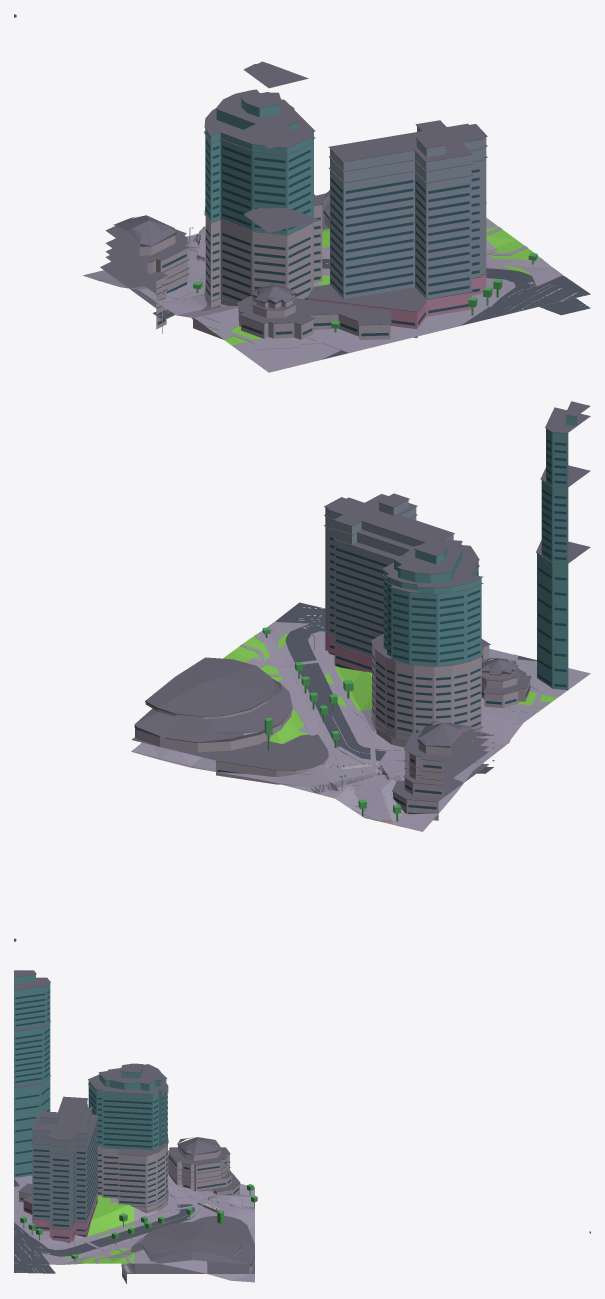
3 views of the same model, one above another, from view 1: azimuth 30°, elevation 25°; view 2: azimuth 150°, elevation 25°; view 3: azimuth 270°, elevation 25° (orthographic). The views are drawn at different scales.
Parts seen in each view (by area): view 1: compiled-chunk; view 2: compiled-chunk; view 3: compiled-chunk.
Part boxes in pixels (<box>): compiled-chunk: <box>14,14,590,372</box>; compiled-chunk: <box>14,401,590,941</box>; compiled-chunk: <box>14,970,590,1284</box>.
Size of the model in its own units: 120 by 119 by 287.
